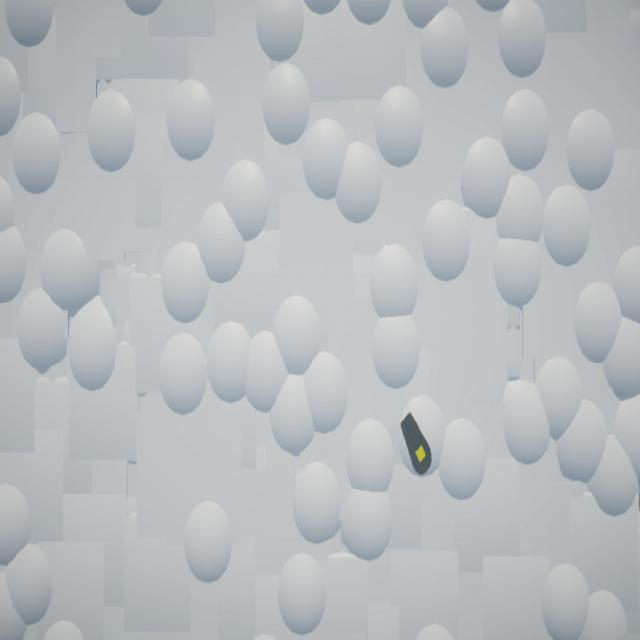handle_folk: (400, 412, 433, 476)
